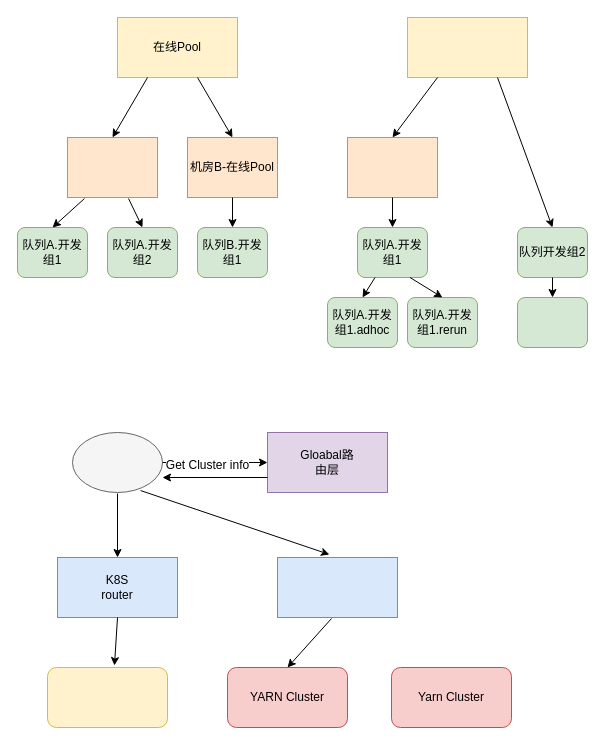
The diagram is 605 pixels wide and 745 high, and some of its shapes have lost their labels. The box of each missing label's shape, as (x1, y1, x2, y2) in pixels:
Client: (72, 432, 162, 492)
K8S Cluster: (46, 666, 168, 728)
YARN Router: (276, 556, 398, 618)
机房A-在线Pool-: (66, 136, 158, 198)
机房A-离线Pool: (346, 136, 438, 198)
离线Pool: (406, 16, 528, 78)
队列.开发组2.rerun: (516, 296, 588, 348)
